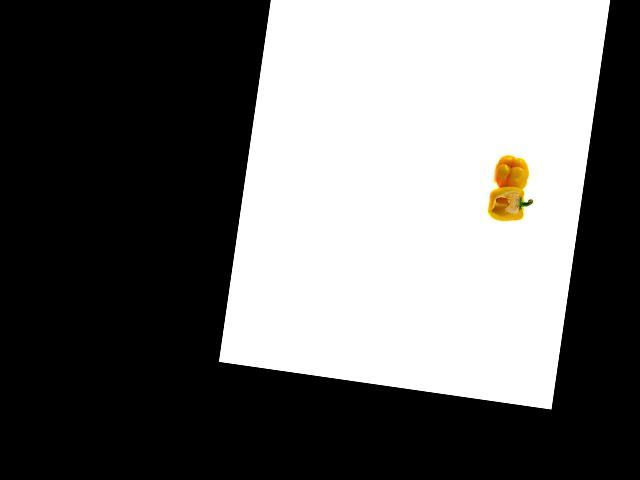bell_pepper: (478, 176, 536, 227)
